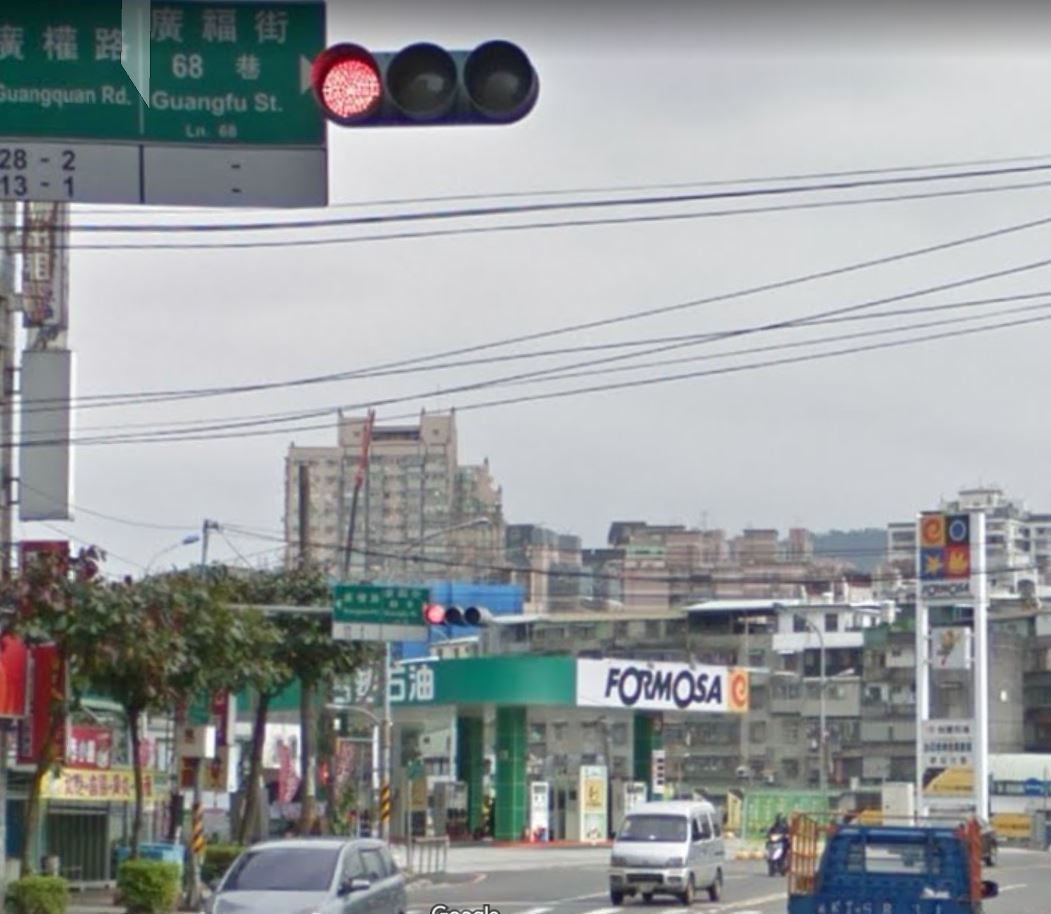Traffic_light_red: (310, 40, 539, 126)
